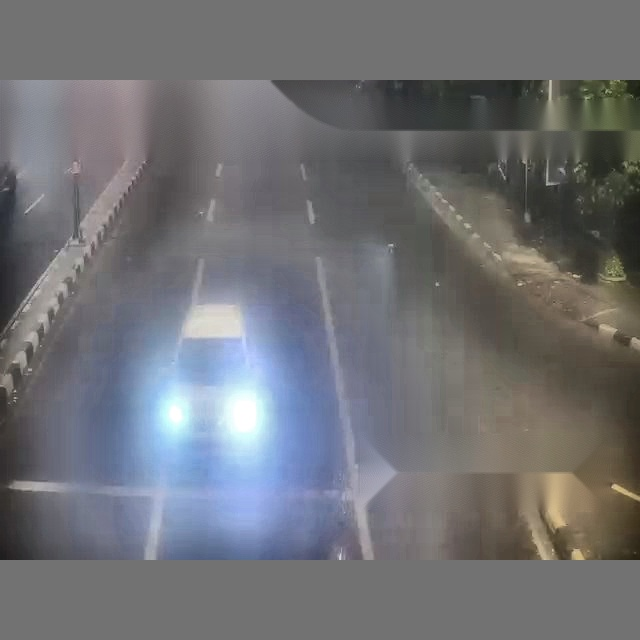Bis: (0, 298, 357, 558)
